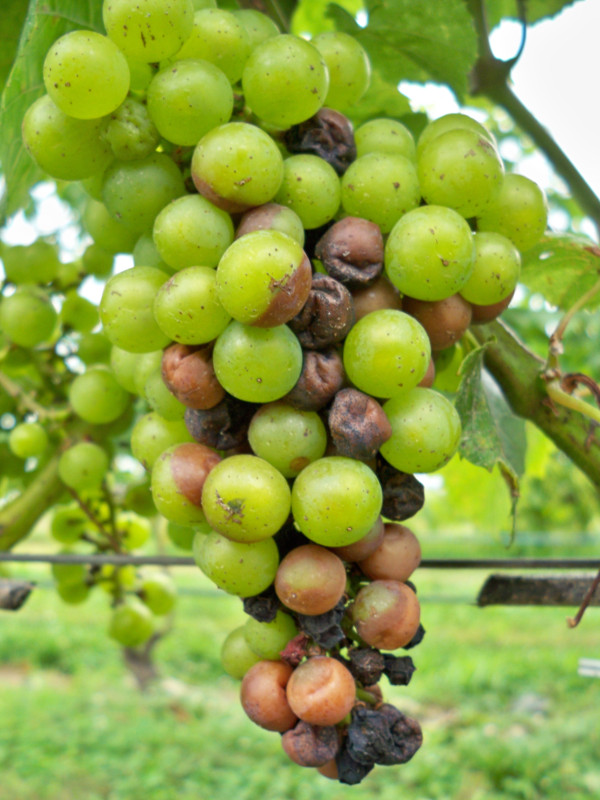Diseased: (215, 233, 311, 324), (243, 32, 328, 131), (290, 459, 383, 544), (377, 387, 462, 472), (204, 455, 287, 542), (387, 209, 470, 296), (23, 98, 108, 181), (423, 131, 505, 217), (45, 32, 128, 116), (348, 310, 429, 396), (196, 122, 279, 205), (216, 320, 298, 404), (152, 63, 232, 142), (100, 0, 188, 67), (101, 264, 164, 357), (459, 231, 522, 321), (152, 445, 220, 528), (154, 195, 231, 268), (104, 158, 183, 226), (343, 155, 422, 222), (480, 175, 548, 252), (278, 543, 351, 614), (354, 581, 425, 650), (318, 214, 389, 281), (251, 405, 324, 470), (199, 527, 274, 590), (287, 658, 354, 728), (312, 29, 368, 111), (283, 153, 340, 231), (164, 270, 223, 345), (399, 297, 474, 353), (350, 704, 426, 759), (330, 388, 390, 455), (299, 278, 350, 349), (164, 344, 220, 408), (243, 660, 294, 725), (282, 110, 351, 157), (189, 399, 244, 454), (187, 8, 237, 62), (106, 98, 149, 159), (282, 724, 340, 768), (373, 526, 417, 583), (381, 466, 423, 516), (355, 120, 415, 155), (298, 349, 340, 397), (252, 611, 290, 656), (223, 631, 259, 677), (346, 284, 395, 316), (237, 207, 302, 231), (335, 744, 368, 788), (241, 586, 278, 623), (136, 227, 164, 268)
